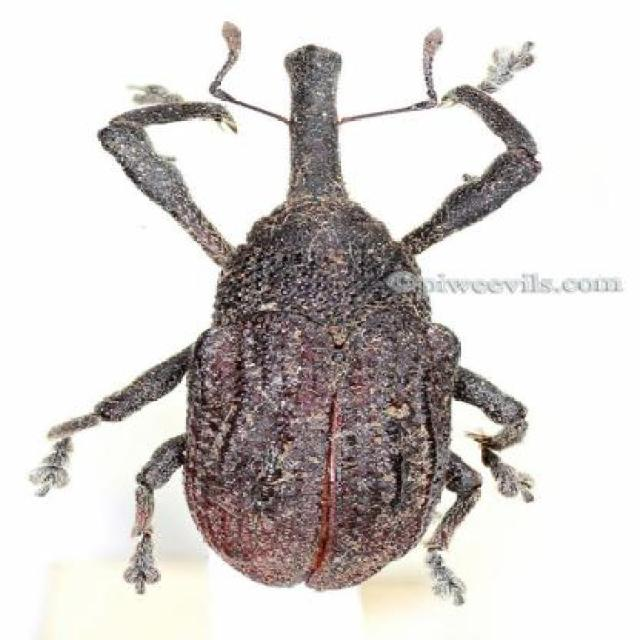rice-bug: (39, 19, 559, 607)
